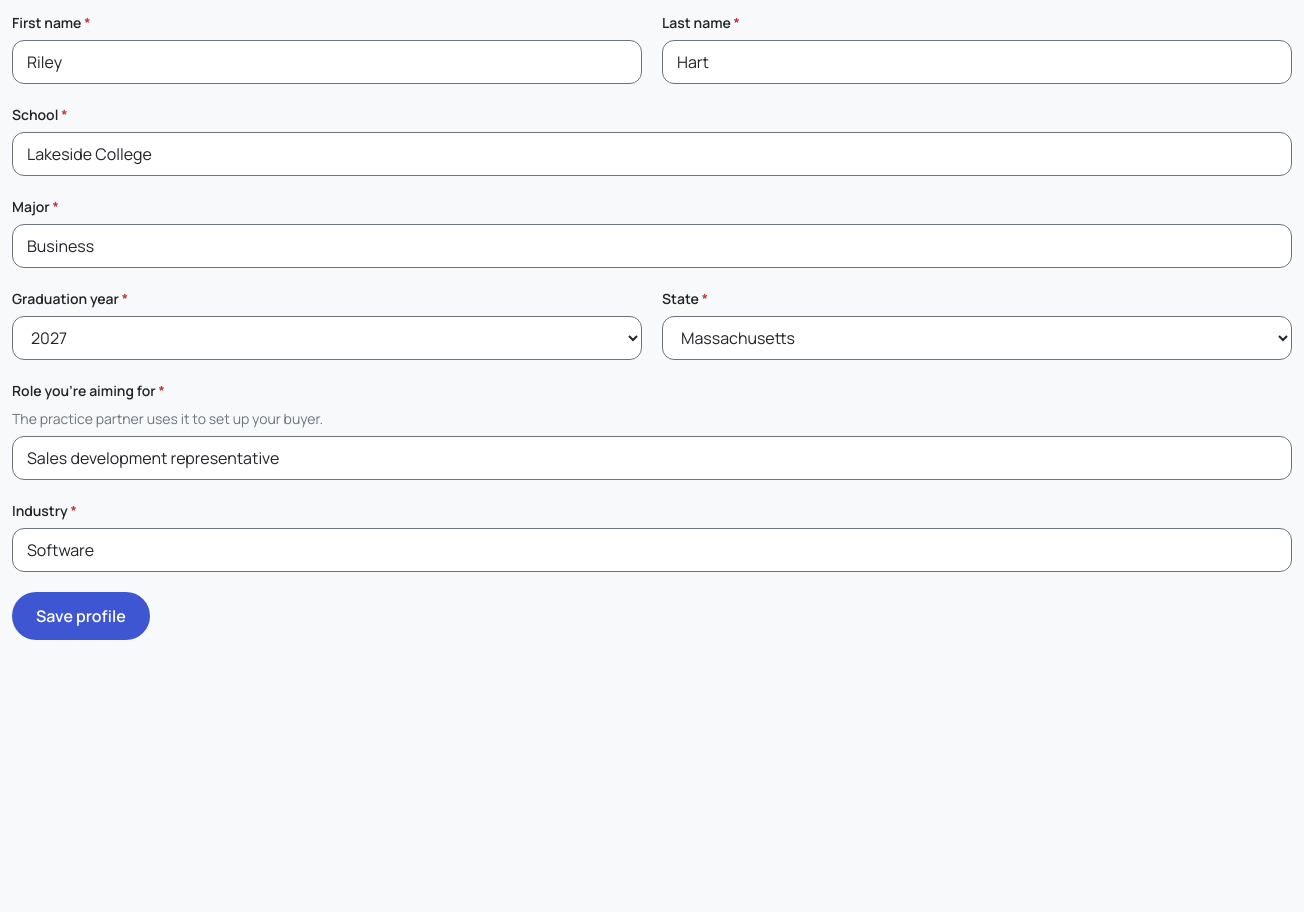
ProfileForm › fills the student's fields from the session and saves changes
Check: the dropdown labelled "Graduation year *" shows "2027", box [12,316,642,360]
Check: the dropdown labelled "State *" shows "Massachusetts", box [662,316,1292,360]
Step 1. Replace the text in the field labelled "School *" with "Hillcrest University" → [652, 154], box [12,132,1292,176]
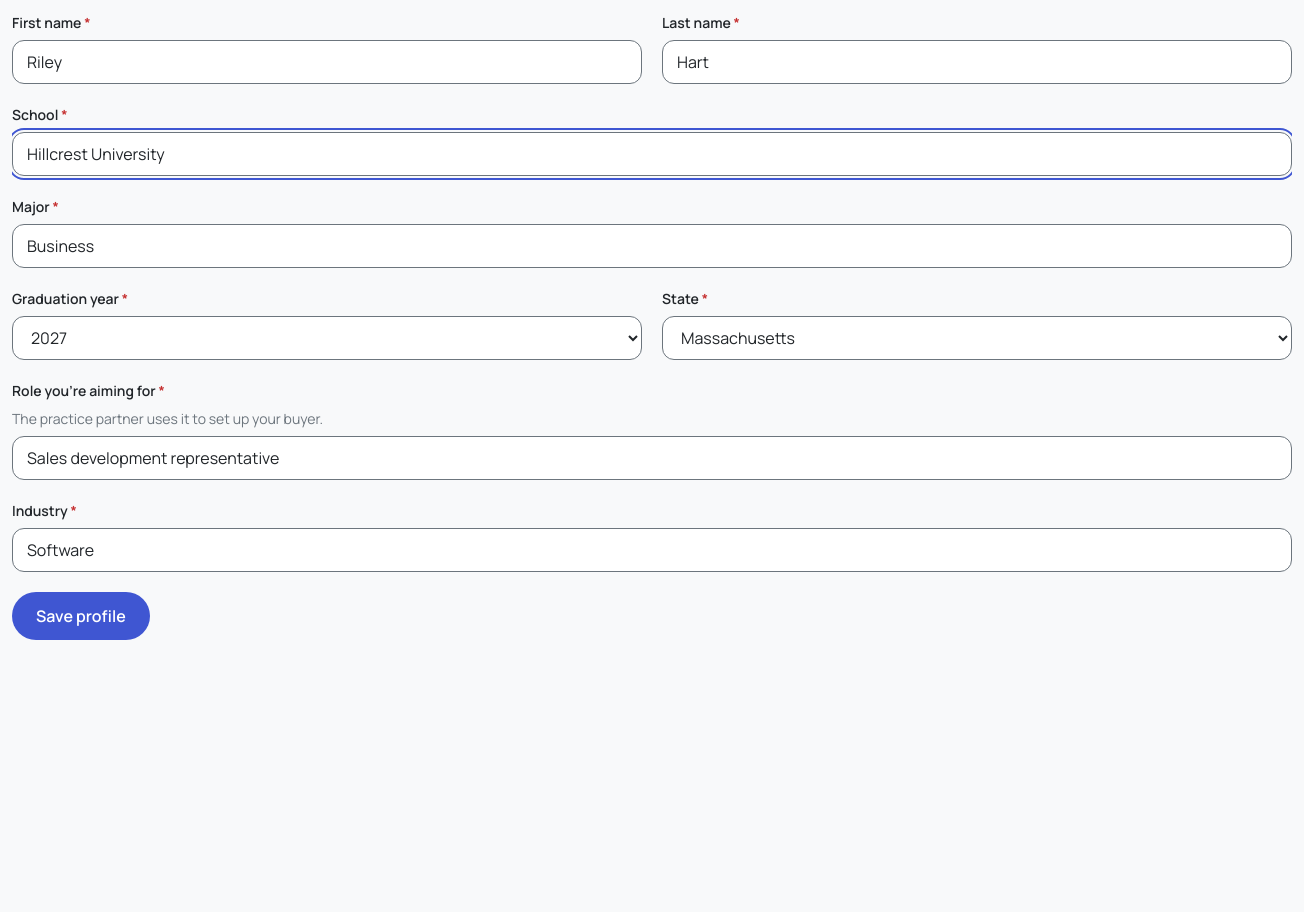
Step 2. Click the button "Save profile" → [81, 616], box [12,592,150,640]
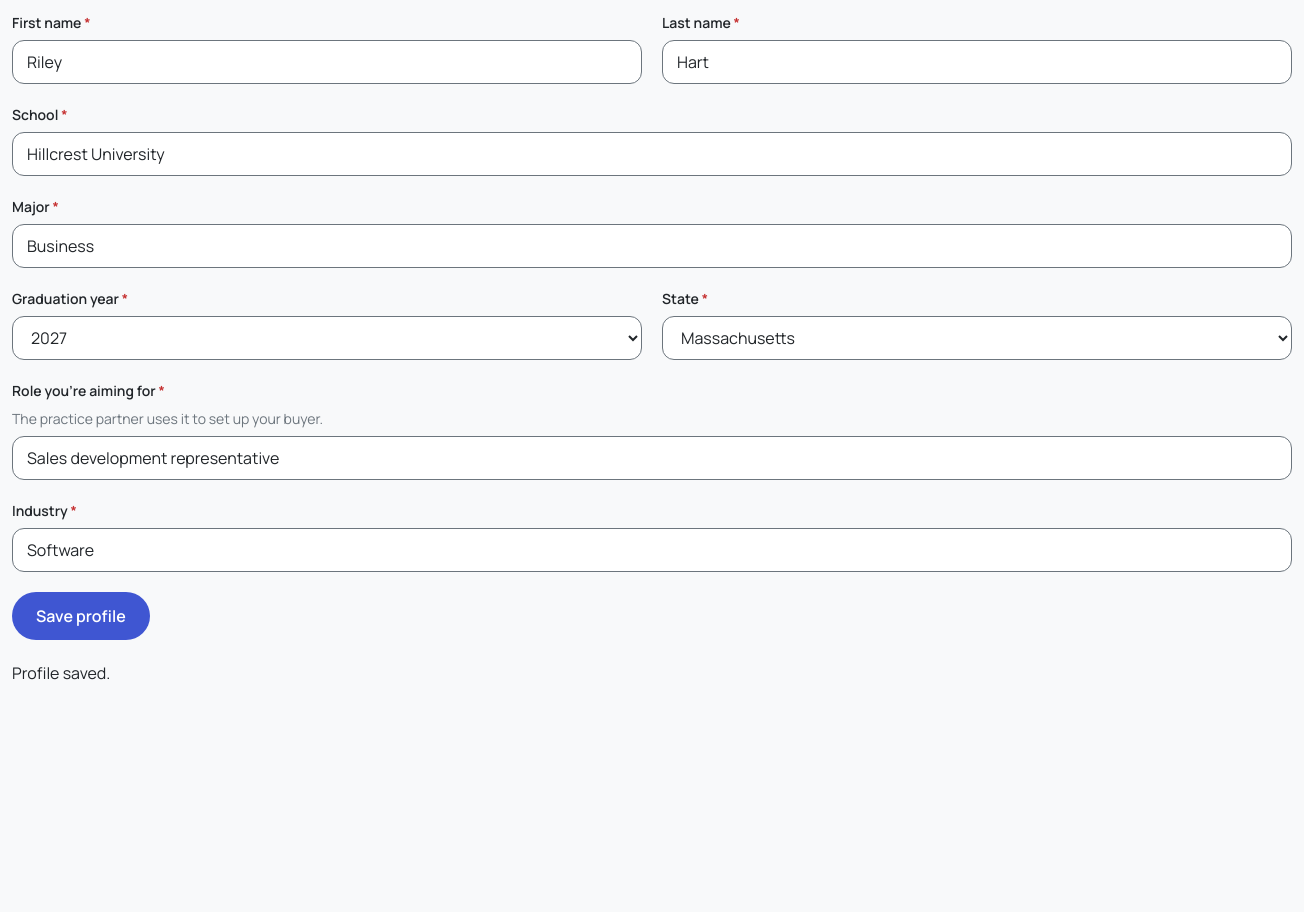
Check: the message shows "saved", box [12,662,110,684]
